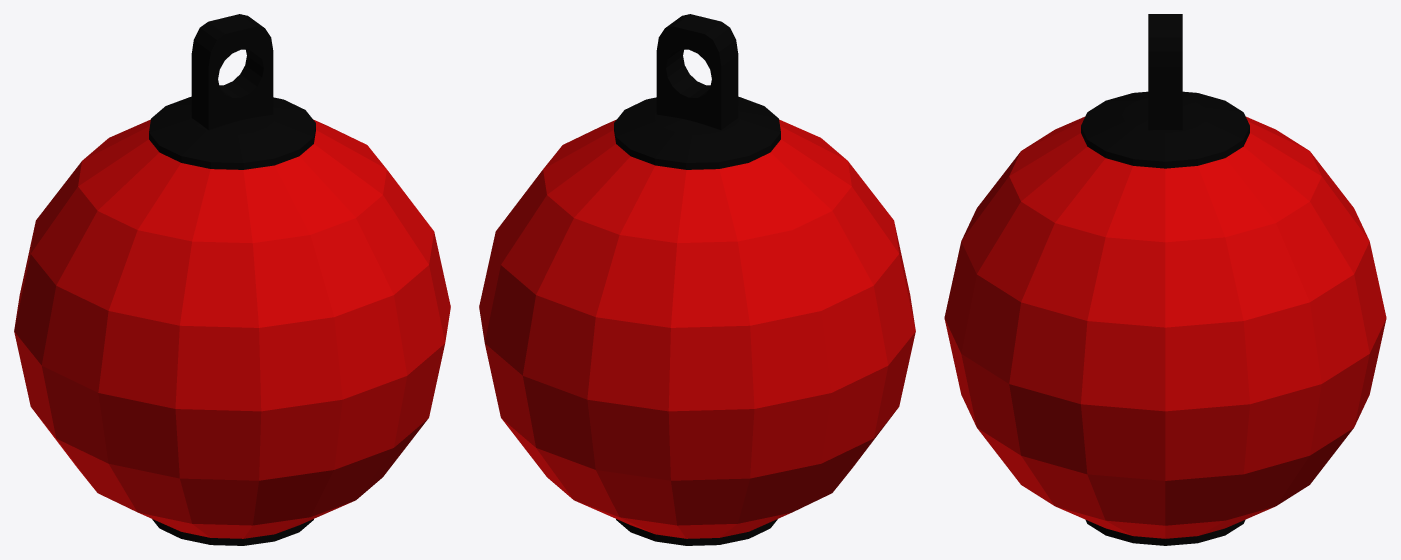
File: mini_buoy_red.glb
3 views of the same model, side by side, from view 1: azimuth 30°, elevation 25°; view 2: azimuth 150°, elevation 25°; view 3: azimuth 270°, elevation 25° (orthographic).
Visible parts, largest first — view 1: mini_buoy_red; view 2: mini_buoy_red; view 3: mini_buoy_red.
Boxes of the visible parts, left/top/right/bottom form: mini_buoy_red: left=14, top=14, right=450, bottom=545; mini_buoy_red: left=479, top=14, right=915, bottom=545; mini_buoy_red: left=944, top=14, right=1386, bottom=545.
Bounding box in the file's own units: 1.29 × 1.62 × 1.29.
1 material, 1 textured.
